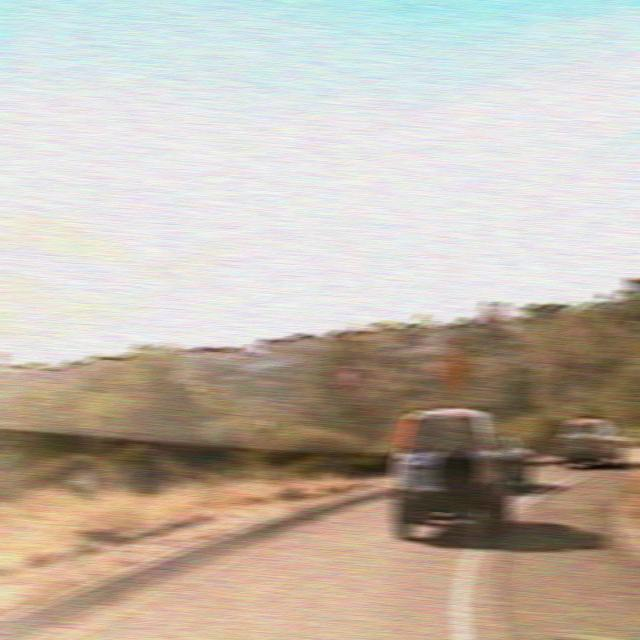yield: (332, 363, 362, 396)
